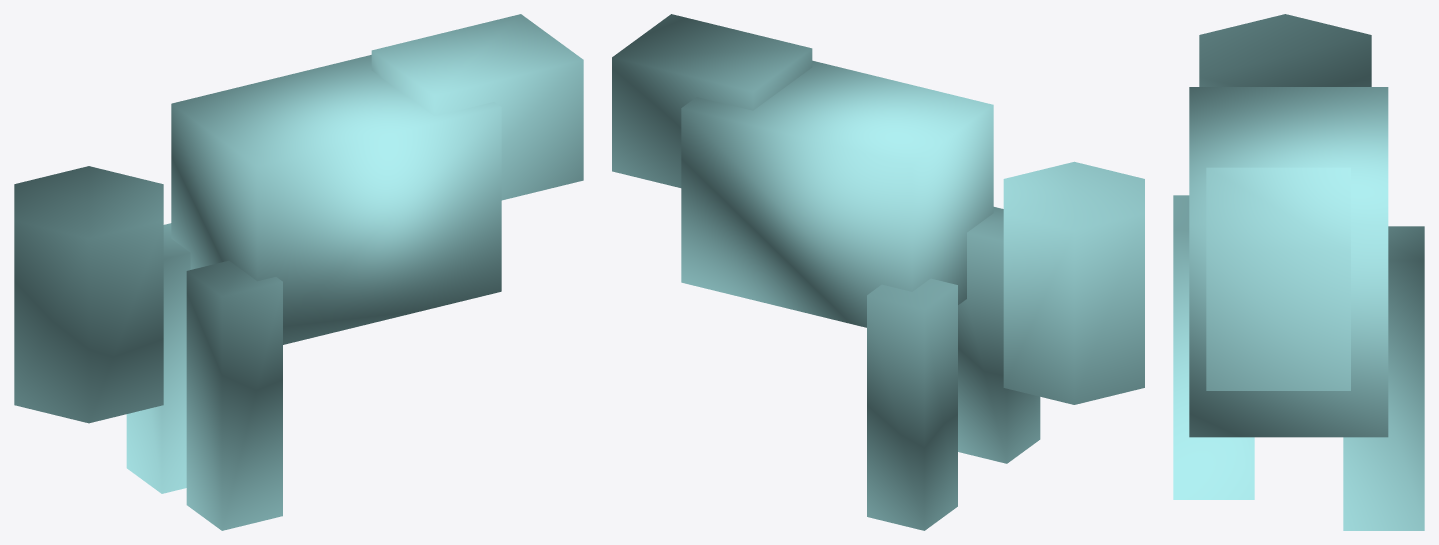
The model's file is ps2_jrpg_revenant_wraith_phantom_enemy.obj.
3 views of the same model, side by side, from view 1: azimuth 30°, elevation 25°; view 2: azimuth 150°, elevation 25°; view 3: azimuth 270°, elevation 25° (orthographic). The views are drawn at different scales.
Size of the model in its own units: 1.58 by 1.1 by 0.5564.
